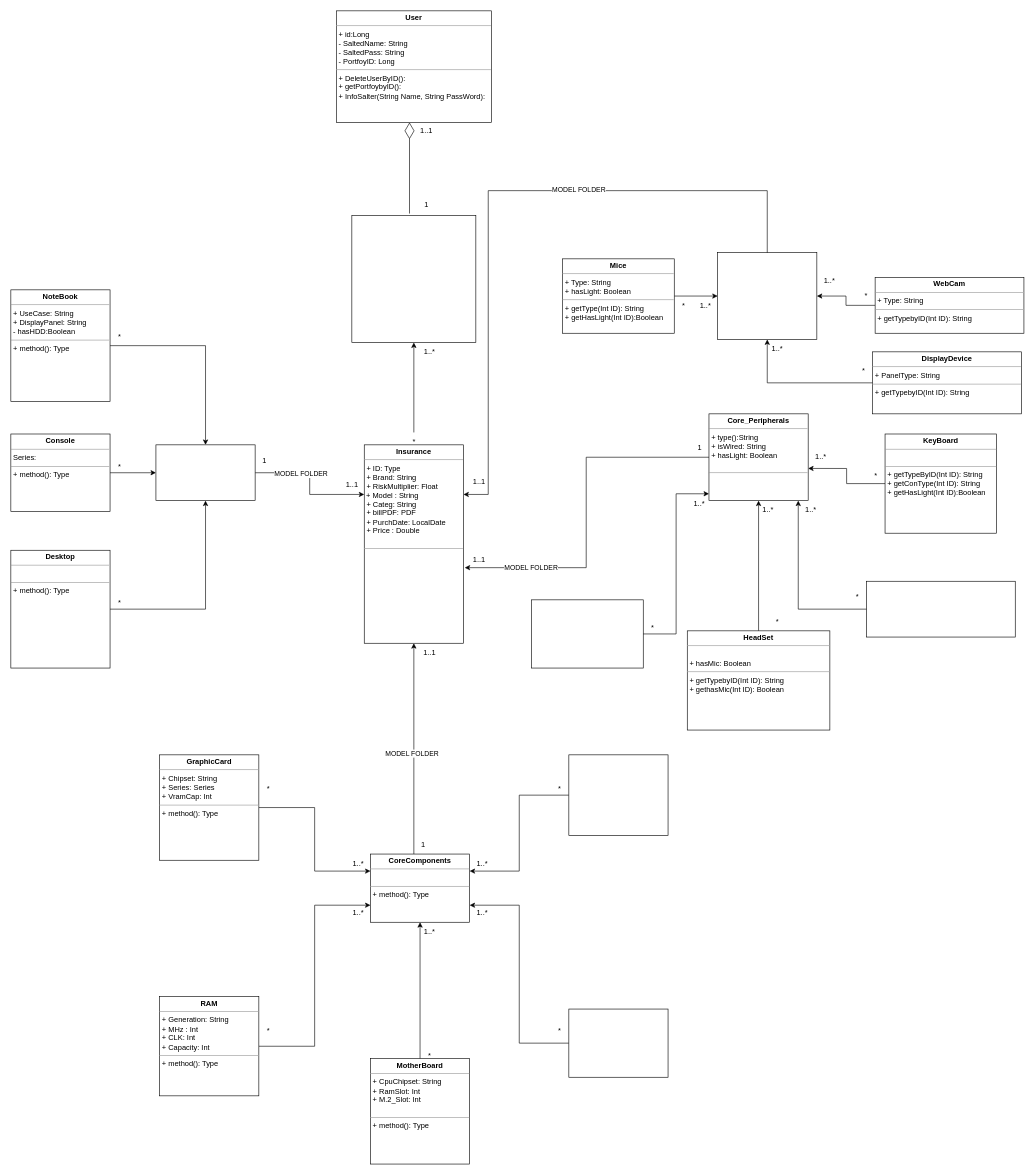
The diagram is 1035 pixels wide and 1175 high, and some of its shapes have lost their labels. Each missing label, with the box of its shape:
Additional_Peripherals: (717, 252, 817, 339)
CPU + ChipSet : String + CpuGen: String + method(): Type: (568, 754, 668, 835)
Mouse + getConType(Int ID): String + getHasLight(Int ID):Boolean: (531, 599, 643, 668)
Portfoy: (351, 215, 476, 343)
ReadySystems Type: String + method(): Type: (155, 444, 255, 501)
Speaker + getTypebyID(Int ID): String: (866, 581, 1015, 637)
Storage + Type: String + Capacity: Double + method(): Type: (568, 1008, 668, 1077)
